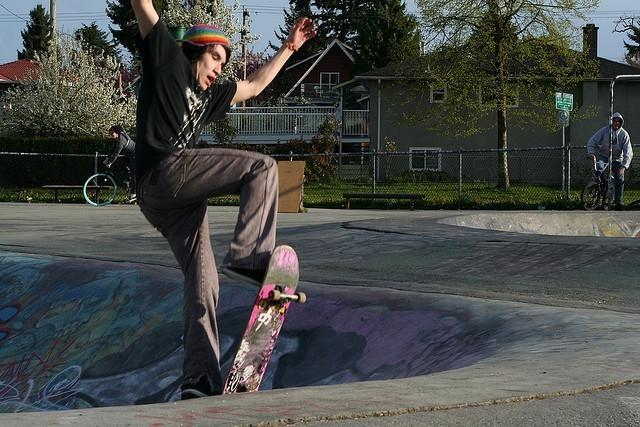bicycle: (582, 157, 620, 210), (82, 174, 124, 202)
